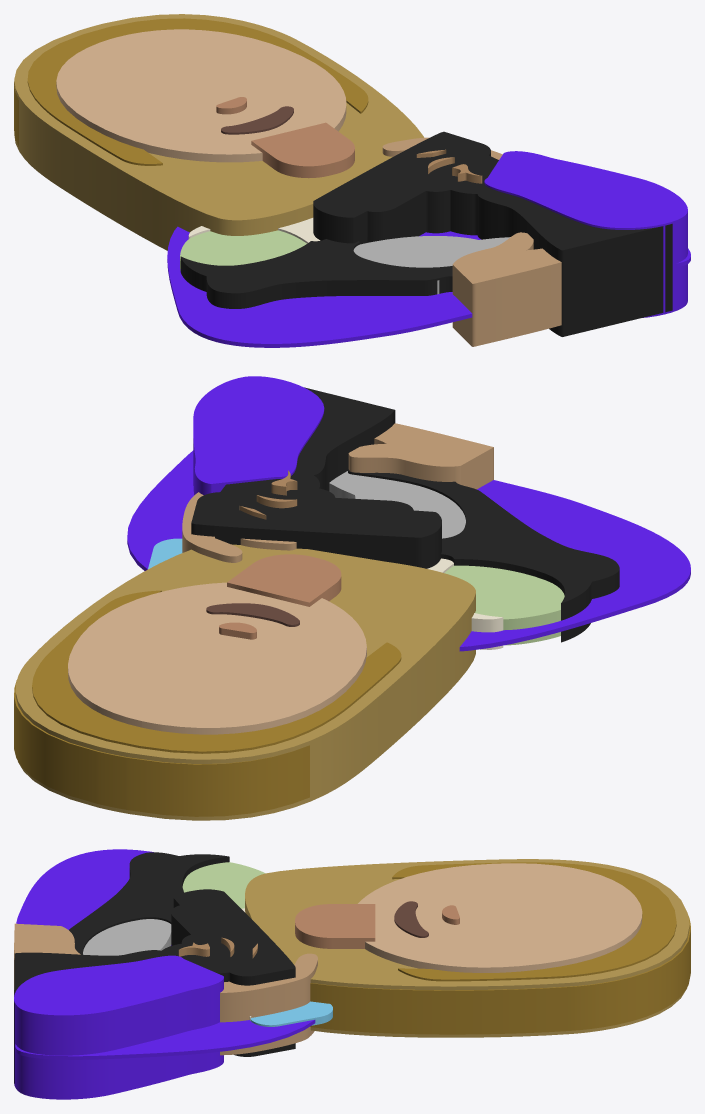
File: emoji_u1f469_1f3fc_200d_1f37c.glb
The picture shows the model from 3 angles, top to bottom: view 1: azimuth 30°, elevation 25°; view 2: azimuth 150°, elevation 25°; view 3: azimuth 270°, elevation 25°; orthographic projection. The views are drawn at different scales.
Parts seen in each view (by area): view 1: emoji_u1f469_1f3fc_200d_1f37c; view 2: emoji_u1f469_1f3fc_200d_1f37c; view 3: emoji_u1f469_1f3fc_200d_1f37c.
Boxes of the visible parts, x1,y1,x2,y2 form: emoji_u1f469_1f3fc_200d_1f37c: (14,14,690,347); emoji_u1f469_1f3fc_200d_1f37c: (14,376,690,820); emoji_u1f469_1f3fc_200d_1f37c: (14,849,690,1099).
Bounding box in the file's own units: 0.0242 × 0.0052 × 0.0335.
